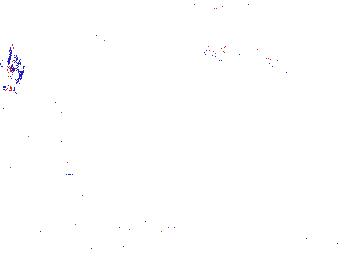X-ray fish: (2, 37, 26, 93)
glassfish: (193, 40, 307, 92)
